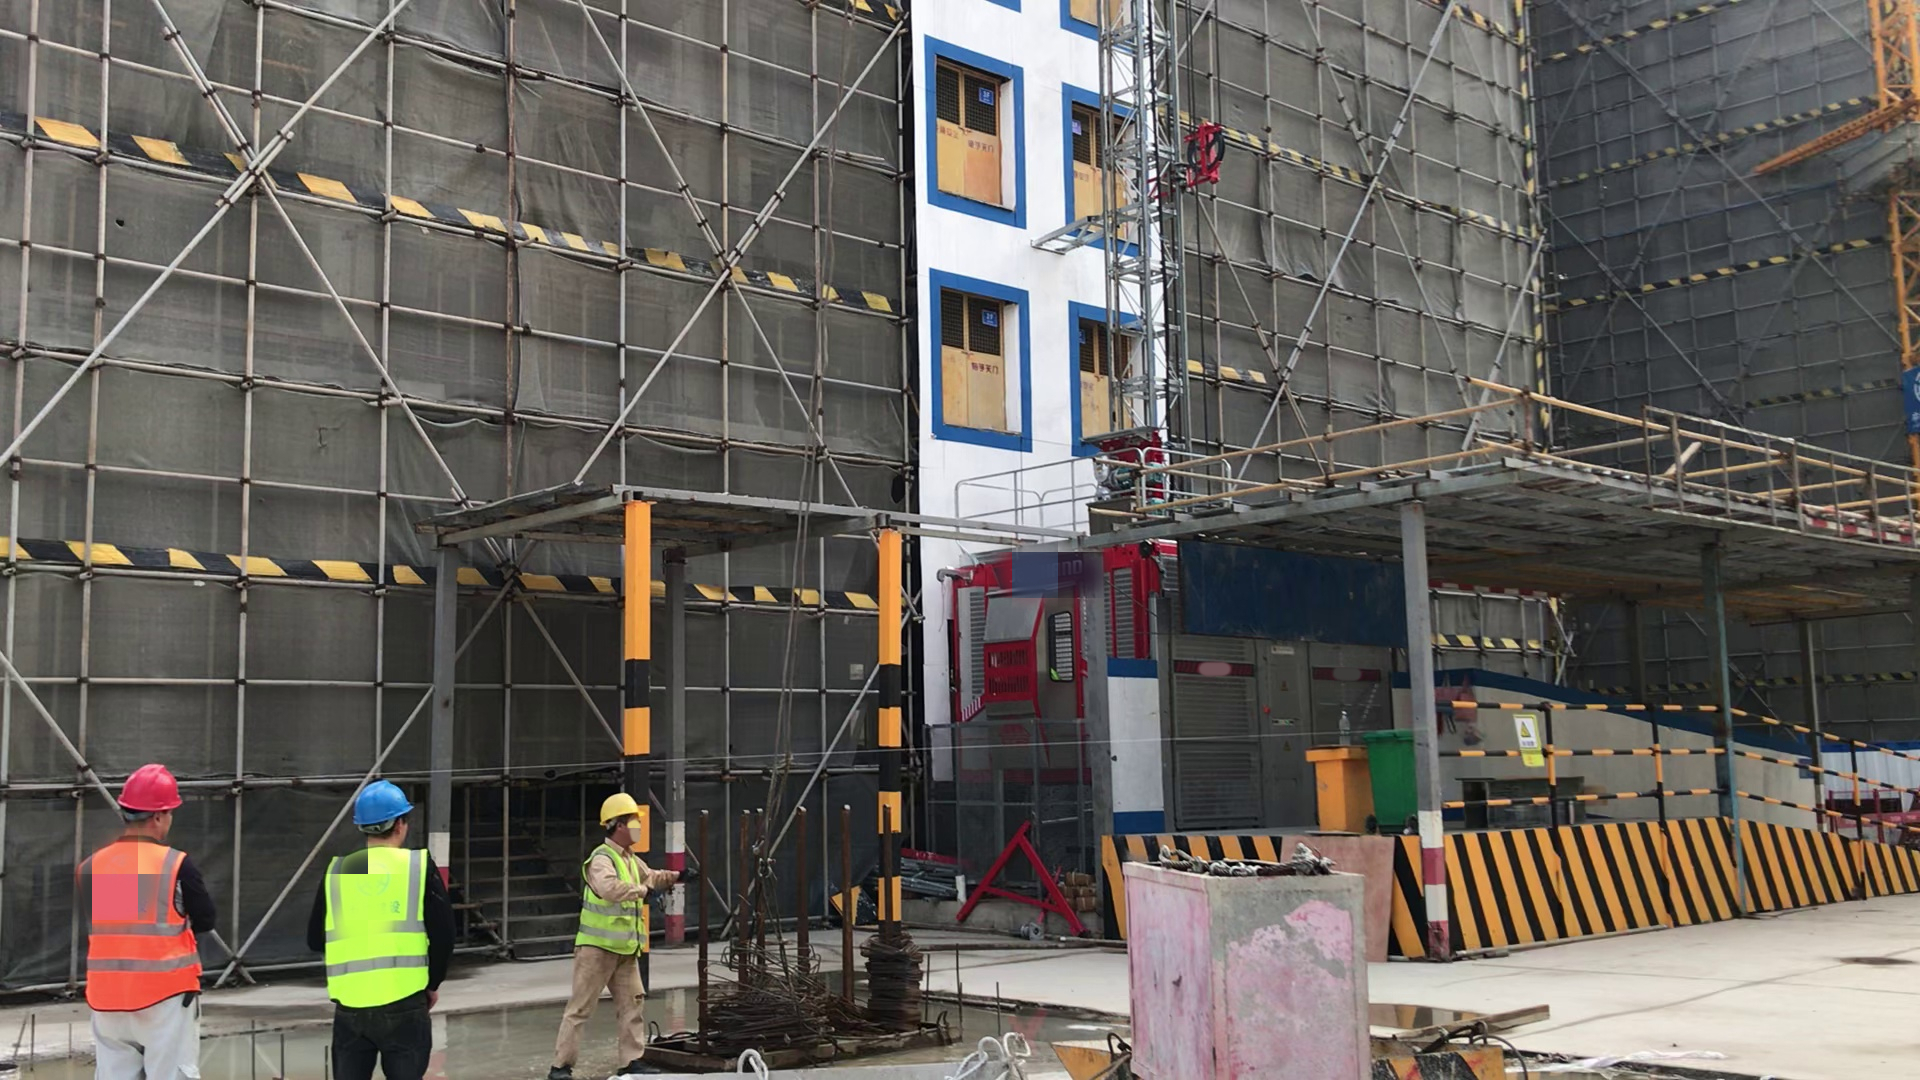fence: (1434, 678, 1920, 871)
helmet: (110, 761, 199, 820), (351, 784, 414, 826), (599, 793, 655, 830)
person: (63, 751, 211, 1080), (305, 779, 459, 1080), (548, 794, 681, 1080)
slogan: (1510, 703, 1563, 796)
vest: (83, 833, 210, 1021), (319, 844, 433, 1006), (570, 847, 661, 958)
